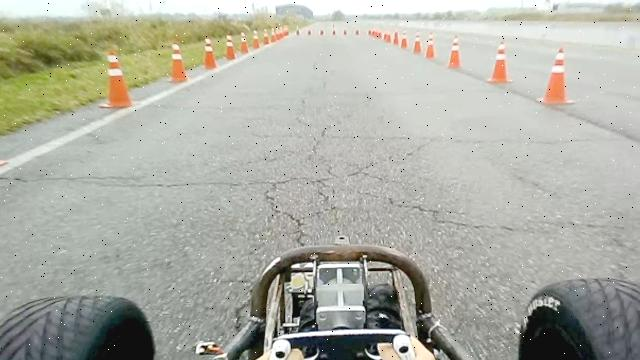red cone: (536, 47, 576, 105), (98, 48, 134, 108), (486, 40, 513, 84), (167, 42, 188, 83), (202, 38, 218, 70), (447, 35, 462, 69), (424, 30, 436, 58), (224, 34, 236, 60), (412, 30, 422, 54), (239, 31, 249, 54), (252, 29, 260, 49), (400, 29, 408, 49), (392, 30, 400, 46), (263, 28, 270, 46)
